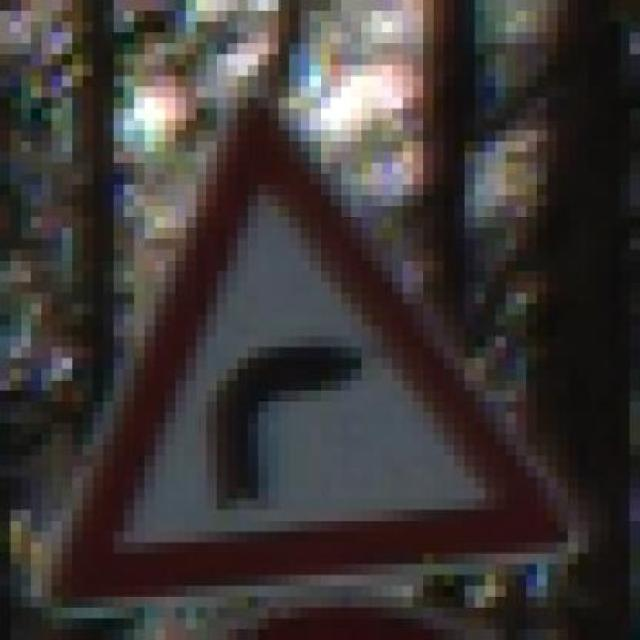Dangerous Rright Curve Ahead: (31, 86, 557, 619)
